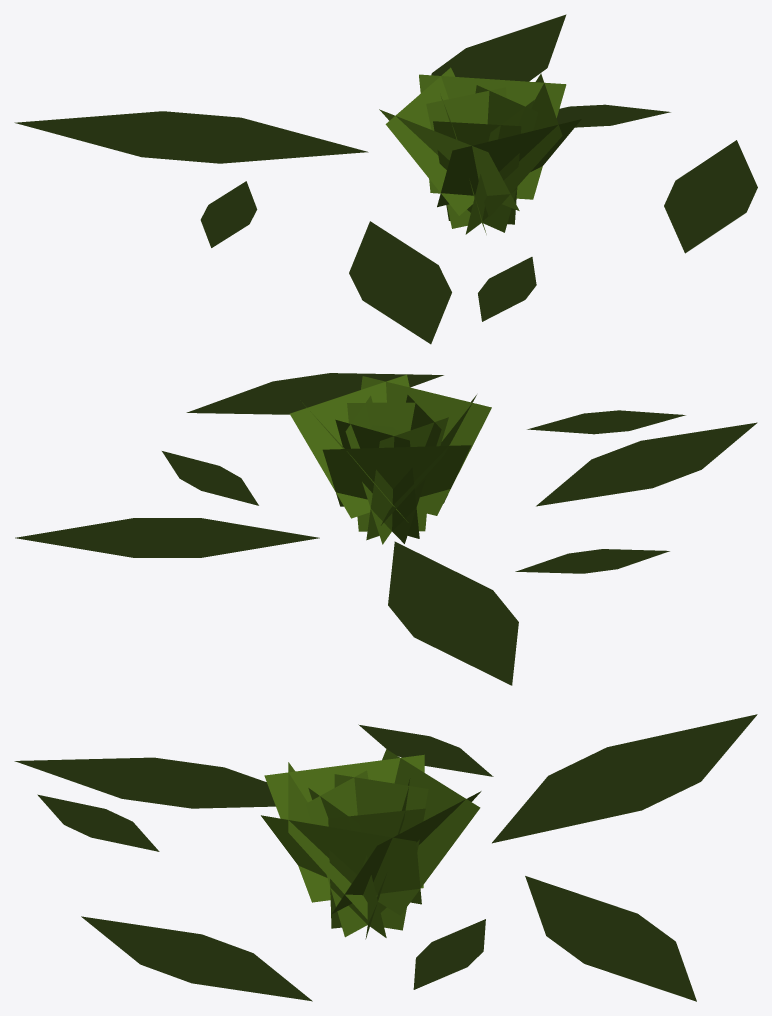
Rendered from Plant_Cut.fbx.
3 views of the same model, one above another, from view 1: azimuth 30°, elevation 25°; view 2: azimuth 150°, elevation 25°; view 3: azimuth 270°, elevation 25° (orthographic). The views are drawn at different scales.
Parts seen in each view (by area): view 1: Dead_Plant; view 2: Dead_Plant; view 3: Dead_Plant.
Boxes of the visible parts, left/top/right/bottom form: Dead_Plant: left=14, top=14, right=757, bottom=344; Dead_Plant: left=15, top=373, right=757, bottom=685; Dead_Plant: left=14, top=714, right=757, bottom=1001.
Size of the model in its own units: 152 by 31.54 by 166.
Materials: 1 (1 with a texture image).
